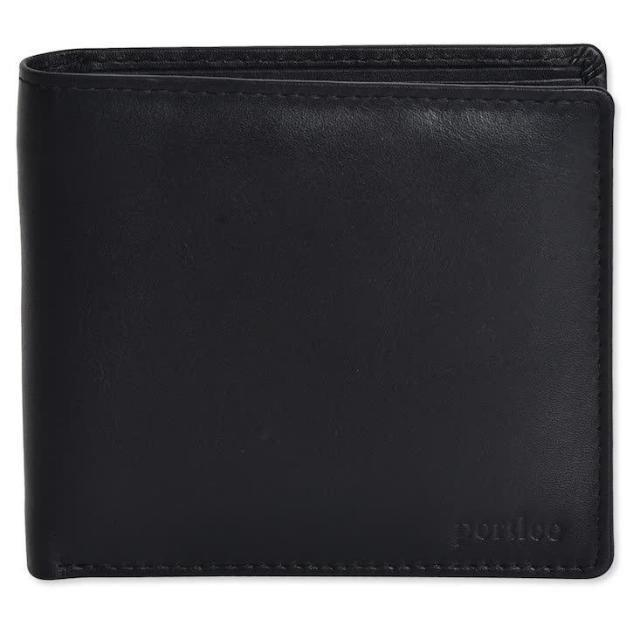Wallet: (22, 45, 612, 575)
